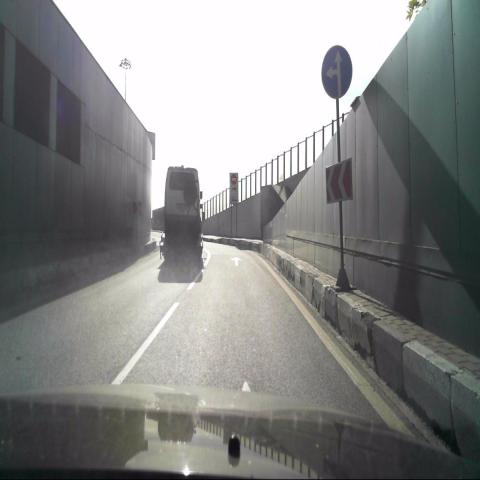4_1_5: (322, 43, 354, 102)
